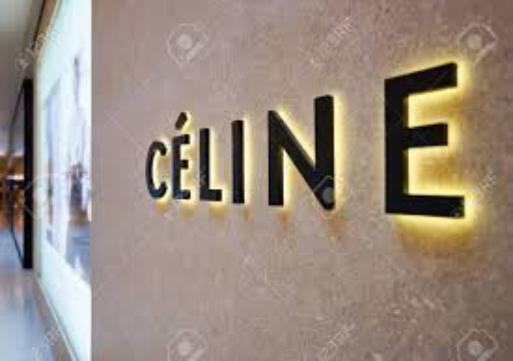CELINE: (119, 59, 475, 230)
